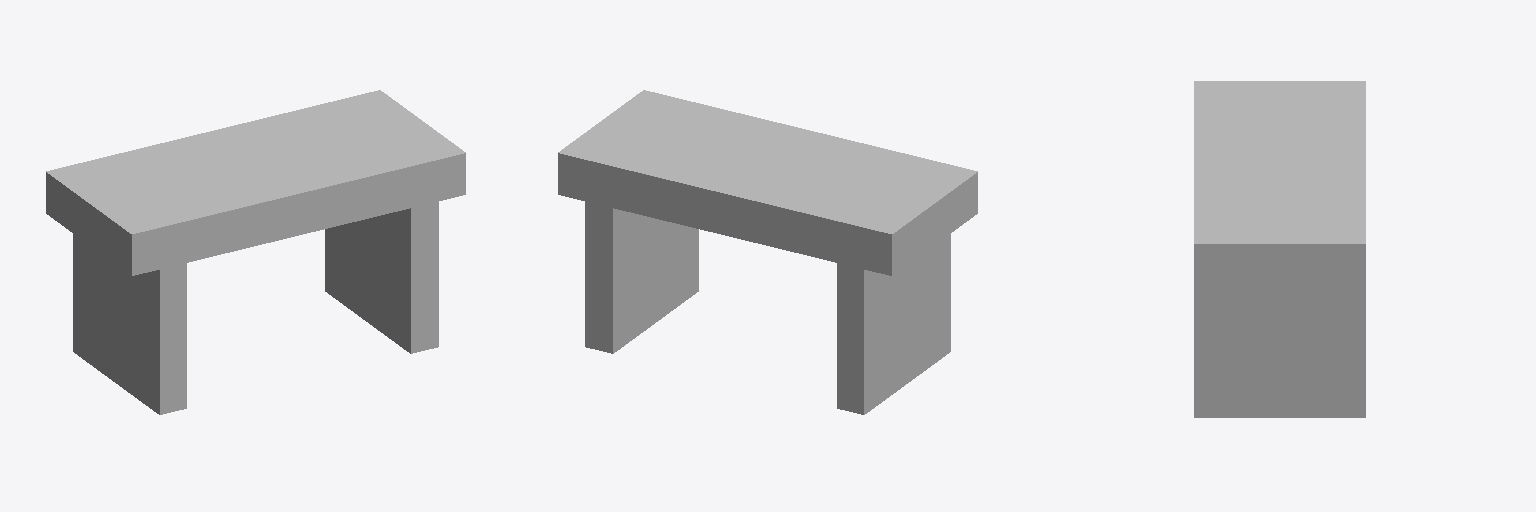
File: roughTable.obj
3 renders of one model, left to right at view 1: azimuth 30°, elevation 25°; view 2: azimuth 150°, elevation 25°; view 3: azimuth 270°, elevation 25°, orthographic.
Visible parts, largest first — view 1: Cube_Cube.002; view 2: Cube_Cube.002; view 3: Cube_Cube.002.
Boxes of the visible parts, x1,y1,x2,y2 form: Cube_Cube.002: [46, 90, 465, 414]; Cube_Cube.002: [558, 90, 977, 414]; Cube_Cube.002: [1194, 81, 1365, 417].
Size of the model in its own units: 2.4 by 1.29 by 1.07.